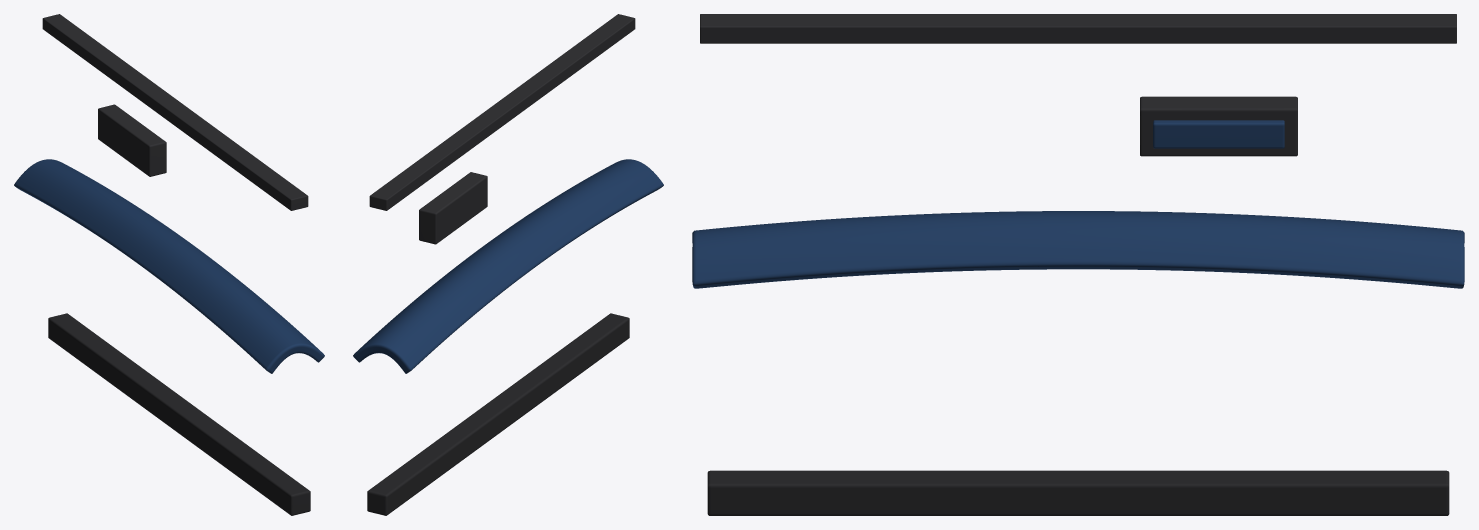
Rendered from rear_left_door.glb.
3 renders of one model, left to right at view 1: azimuth 30°, elevation 25°; view 2: azimuth 150°, elevation 25°; view 3: azimuth 270°, elevation 25°, orthographic. The views are drawn at different scales.
Parts seen in each view (by area): view 1: DOOR_OUTER_SKIN_rear_left_door.glb, DOOR_LOWER_BLADE_rear_left_door.glb, DOOR_WAIST_SEAL_rear_left_door.glb, HANDLE_CUP_rear_left_door.glb; view 2: DOOR_OUTER_SKIN_rear_left_door.glb, DOOR_LOWER_BLADE_rear_left_door.glb, DOOR_WAIST_SEAL_rear_left_door.glb, HANDLE_CUP_rear_left_door.glb; view 3: DOOR_OUTER_SKIN_rear_left_door.glb, DOOR_LOWER_BLADE_rear_left_door.glb, DOOR_WAIST_SEAL_rear_left_door.glb, HANDLE_CUP_rear_left_door.glb, HANDLE_LEVER_rear_left_door.glb.
Boxes of the visible parts, box(x1,y1,x2,y2) form: DOOR_OUTER_SKIN_rear_left_door.glb: box(14, 159, 324, 373); DOOR_LOWER_BLADE_rear_left_door.glb: box(48, 313, 310, 515); DOOR_WAIST_SEAL_rear_left_door.glb: box(42, 14, 308, 210); HANDLE_CUP_rear_left_door.glb: box(98, 104, 166, 176); DOOR_OUTER_SKIN_rear_left_door.glb: box(353, 159, 663, 373); DOOR_LOWER_BLADE_rear_left_door.glb: box(367, 313, 629, 515); DOOR_WAIST_SEAL_rear_left_door.glb: box(369, 14, 635, 210); HANDLE_CUP_rear_left_door.glb: box(419, 172, 487, 244); DOOR_OUTER_SKIN_rear_left_door.glb: box(692, 211, 1464, 288); DOOR_LOWER_BLADE_rear_left_door.glb: box(707, 470, 1449, 515); DOOR_WAIST_SEAL_rear_left_door.glb: box(700, 14, 1456, 43); HANDLE_CUP_rear_left_door.glb: box(1140, 96, 1297, 156); HANDLE_LEVER_rear_left_door.glb: box(1153, 120, 1284, 148).
Bounding box in the file's own units: 0.1169 × 0.611 × 0.8794.
